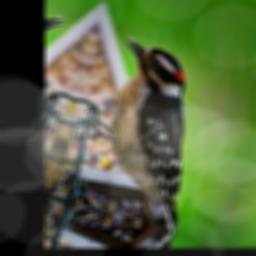Woodpecker: (55, 30, 226, 234)
